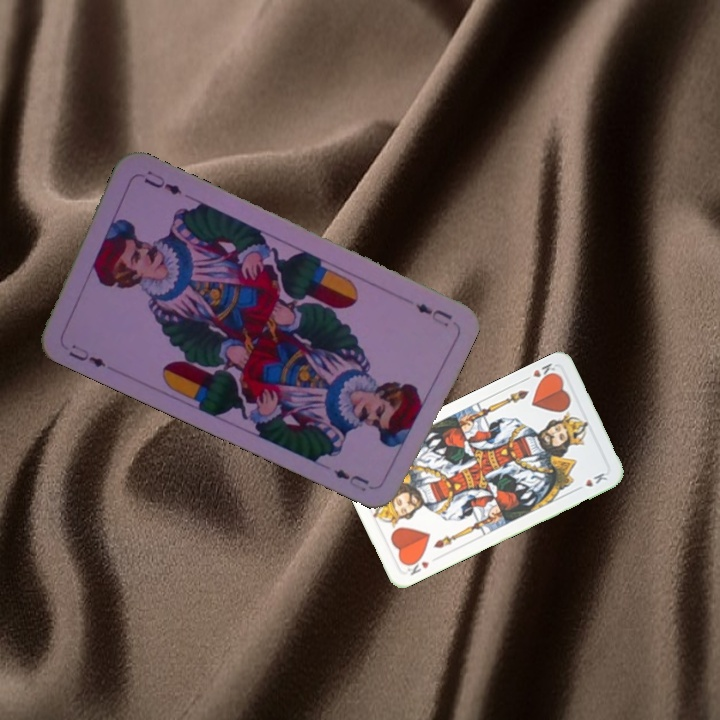EU: (64, 340, 108, 371), (411, 299, 455, 330)
HK: (519, 359, 559, 385), (401, 553, 432, 578)
